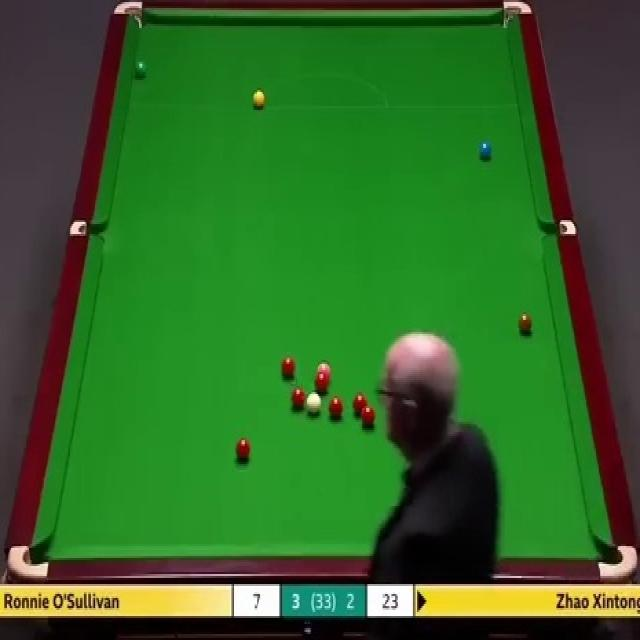pocket: (596, 542, 638, 582), (7, 543, 50, 582), (500, 0, 532, 32), (112, 0, 147, 29), (540, 218, 577, 237), (69, 218, 104, 238)
